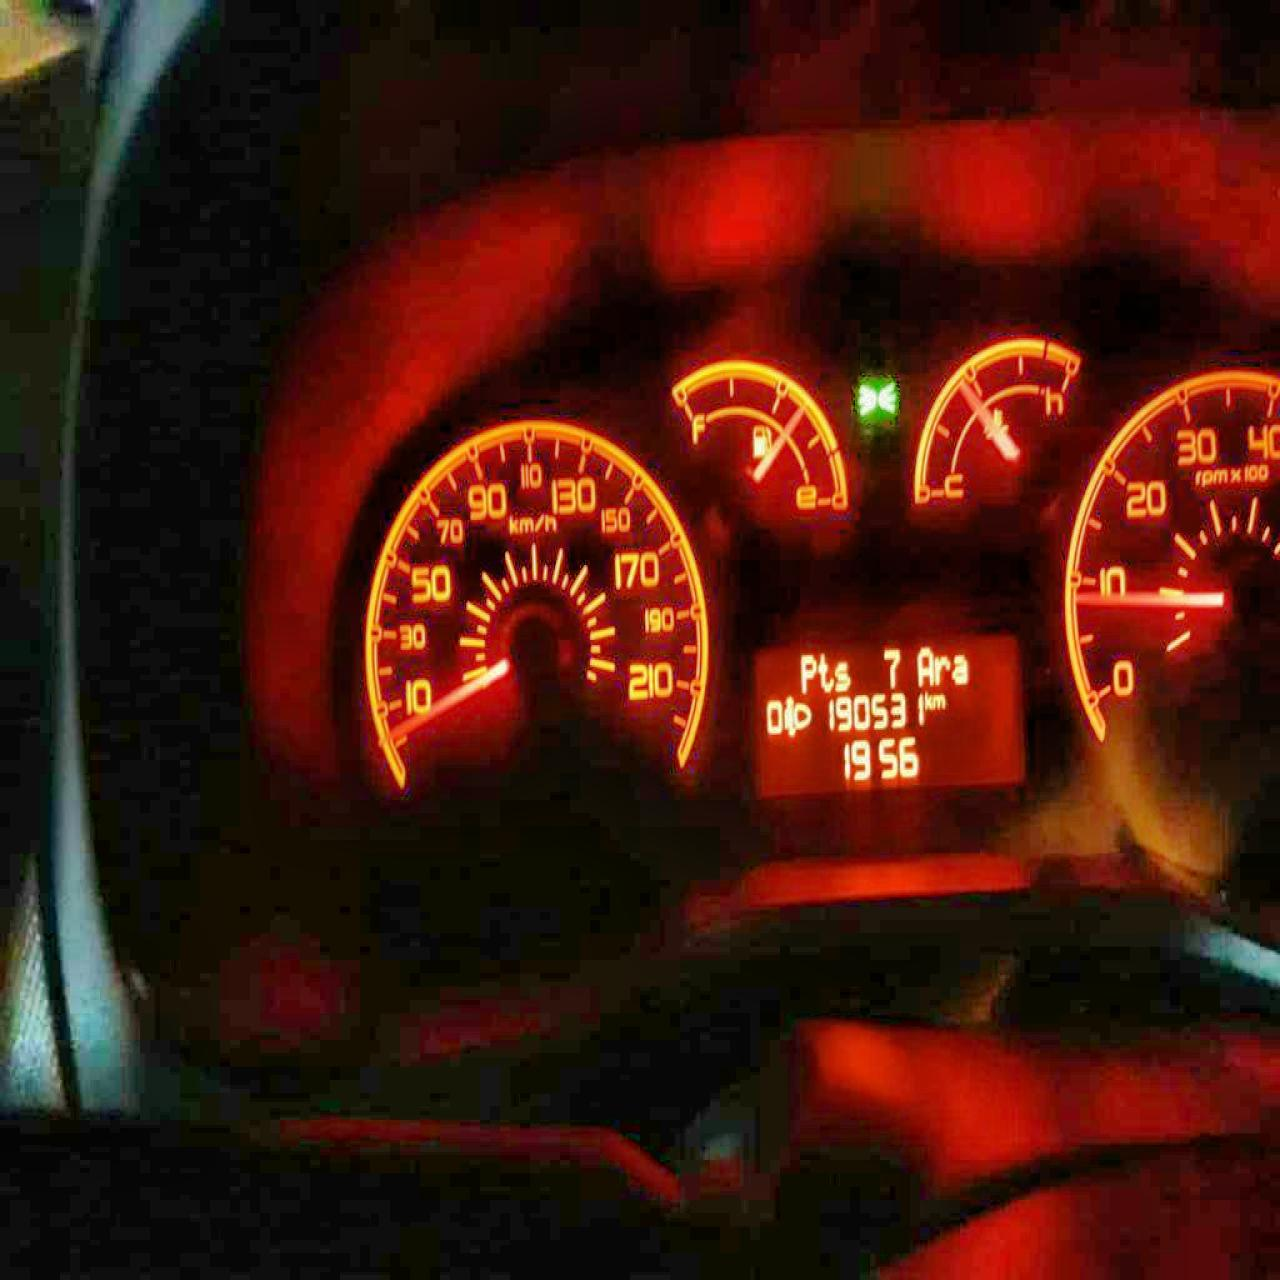0: (763, 695, 783, 735), (851, 692, 870, 730)
1: (839, 738, 850, 779), (824, 695, 835, 730), (915, 690, 922, 726)
3: (888, 689, 907, 728)
5: (874, 734, 897, 778), (870, 690, 887, 730)
6: (898, 734, 918, 778)
7: (880, 644, 900, 688)
9: (850, 735, 871, 779), (835, 693, 851, 731)
X: (797, 649, 817, 693), (917, 644, 934, 688), (933, 652, 952, 686), (817, 651, 832, 692), (833, 659, 851, 692), (952, 652, 968, 686), (931, 689, 945, 708), (922, 688, 932, 708)
odometer: (741, 620, 1029, 806)
